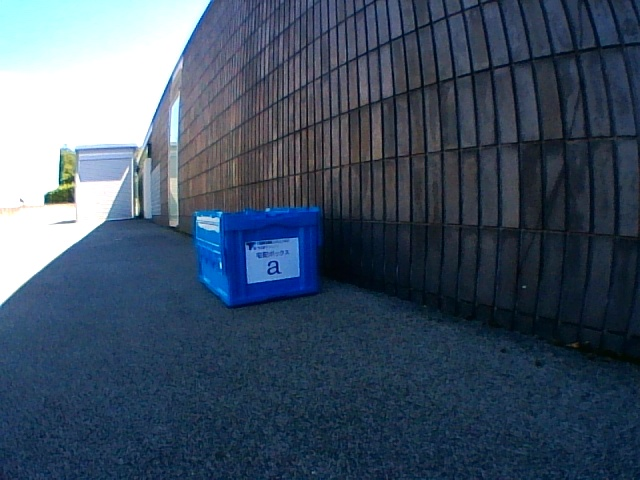blue_box: (194, 207, 320, 306)
tag_a: (254, 246, 292, 277)
